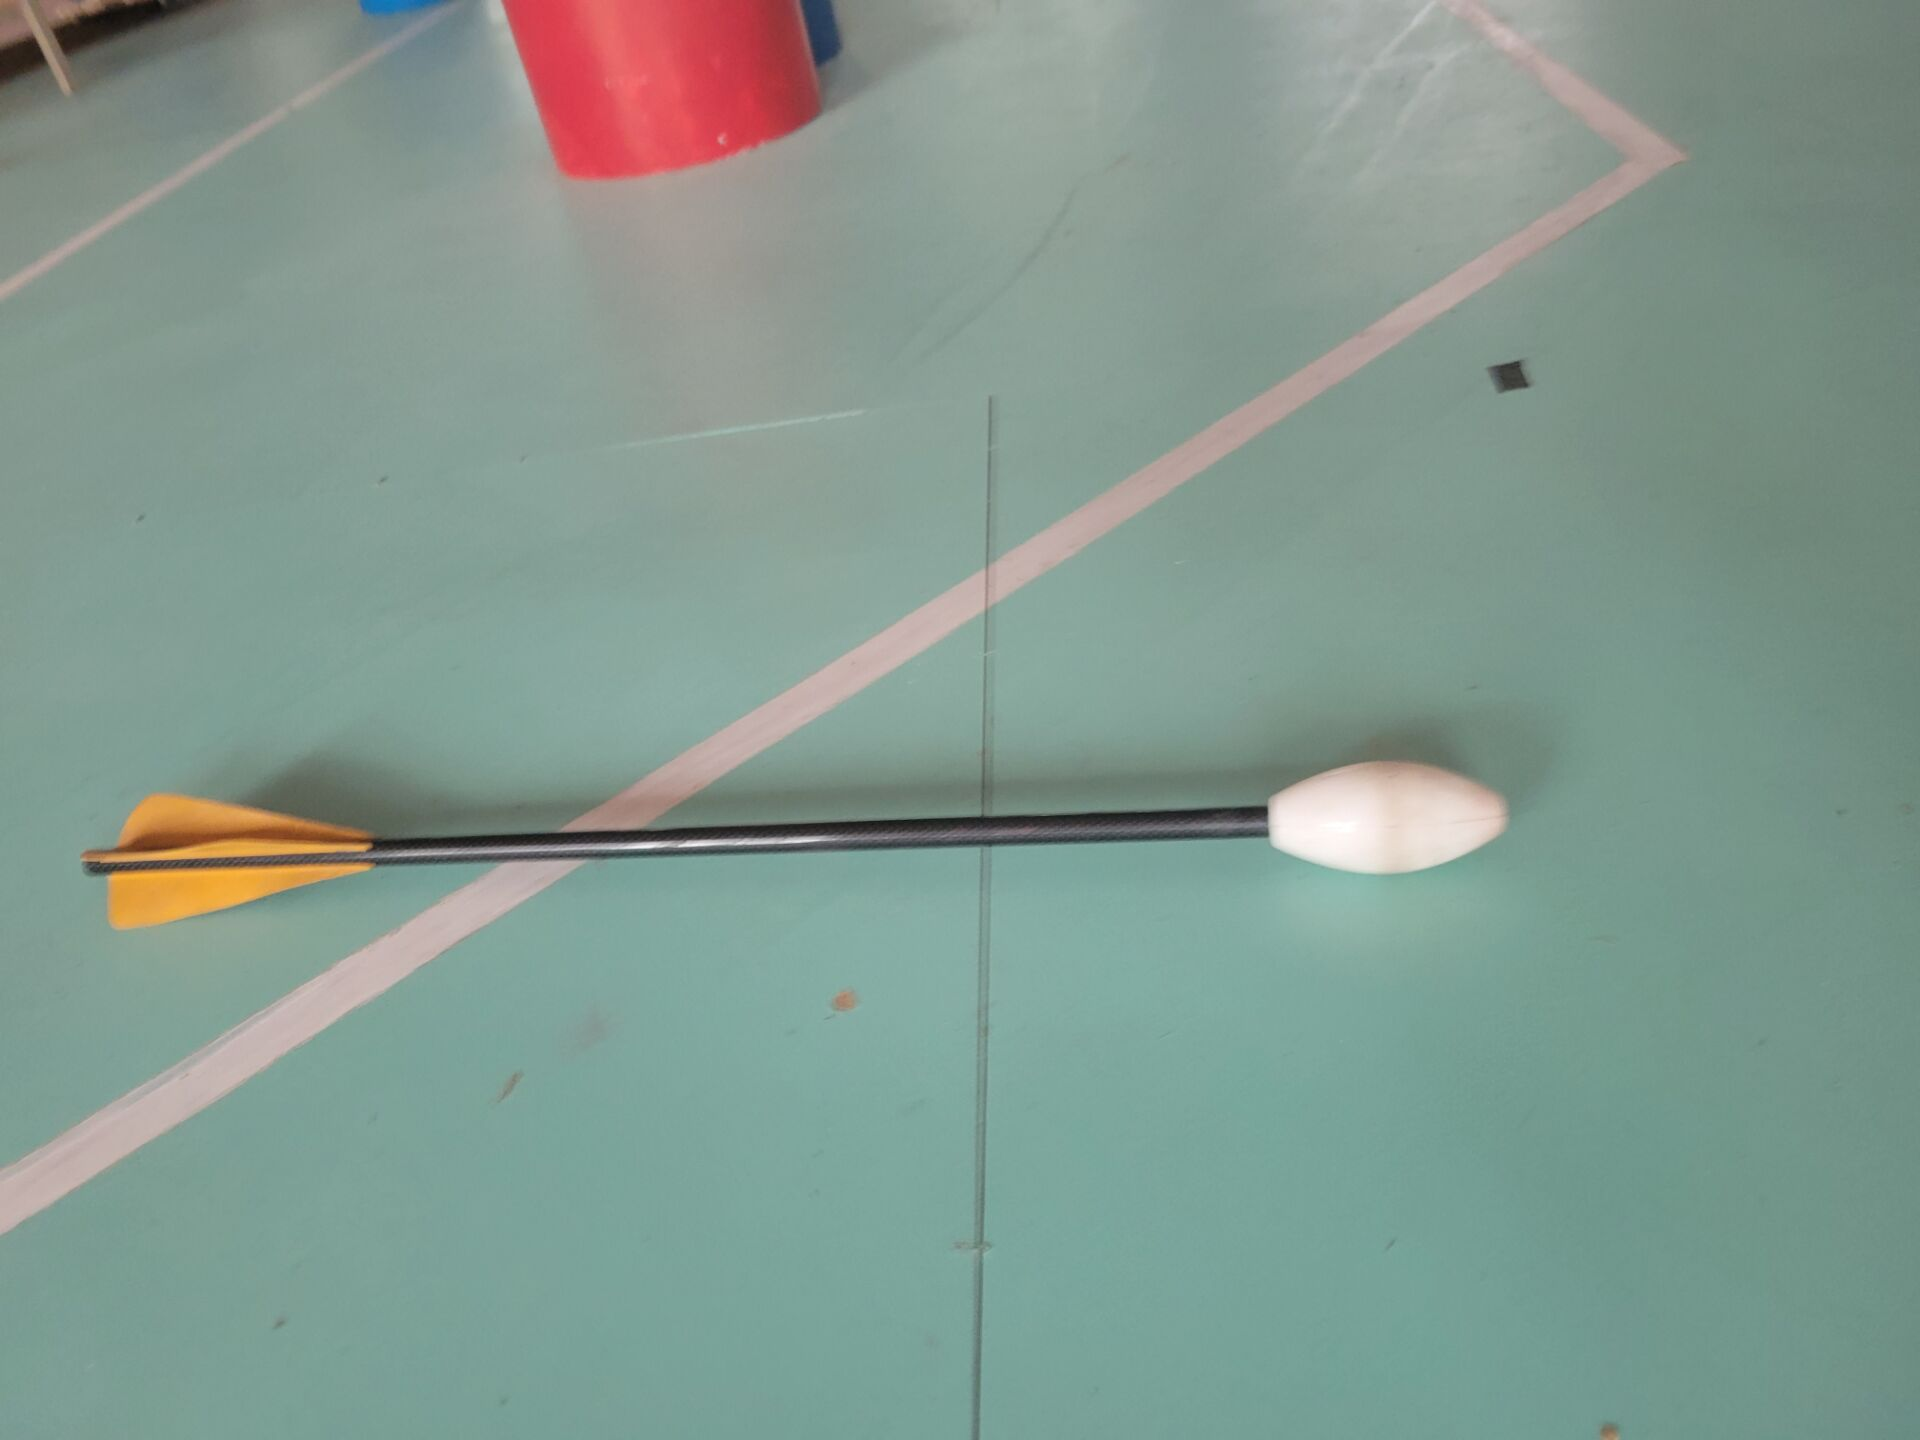arrow: (82, 755, 1510, 936)
arrowFront: (1264, 756, 1510, 873)
